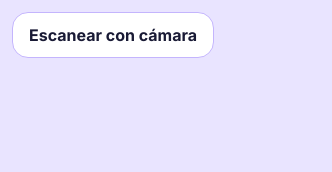
Test: EscanerCamara › muestra el permiso requerido cuando el usuario rechaza la cámara
What coordinates should you click on to do the following:
click the button "Escanear con cámara"
I would click on:
 (113, 35)
Its box is [12,12,214,58].
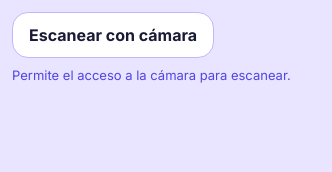
Check: the message reads "Permite el acceso a la cámara para escanear.", box [12,67,291,83]
